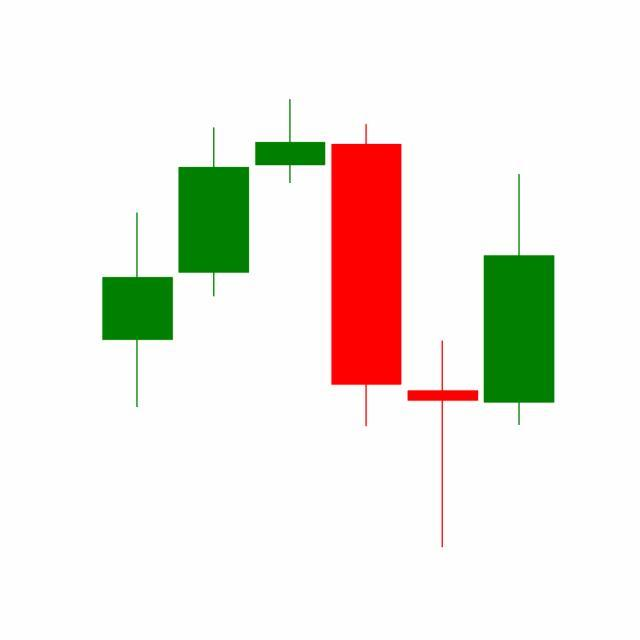Morning Star: (326, 120, 555, 549)
